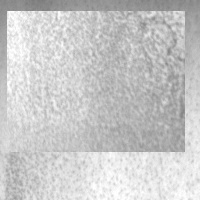pitted_surface: (2, 1, 196, 197), (7, 11, 185, 152)
